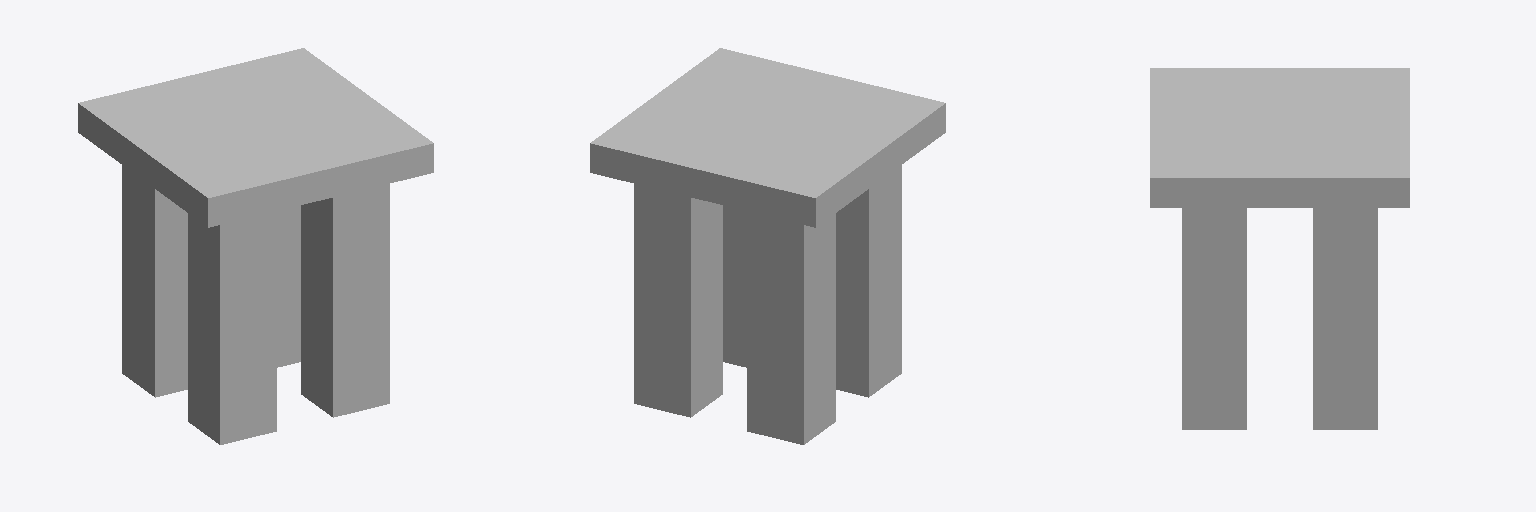
File: control_rod_lid.obj
The picture shows the model from 3 angles: view 1: azimuth 30°, elevation 25°; view 2: azimuth 150°, elevation 25°; view 3: azimuth 270°, elevation 25°; orthographic projection.
Parts seen in each view (by area): view 1: Lid; view 2: Lid; view 3: Lid.
Boxes of the visible parts, x1=… form: Lid: x1=78, y1=48, x2=433, y2=444; Lid: x1=590, y1=48, x2=945, y2=444; Lid: x1=1150, y1=68, x2=1409, y2=429.
Size of the model in its own units: 1 by 1.12 by 1.